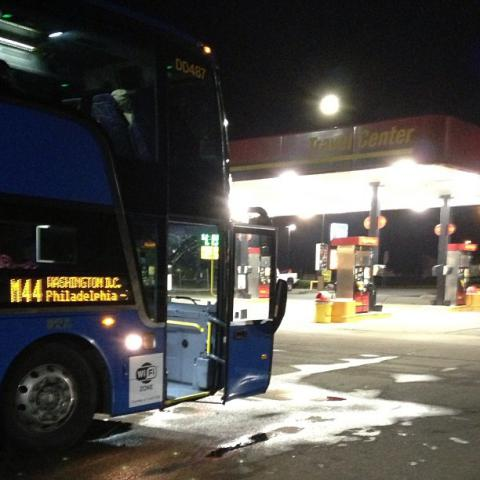bus: (1, 0, 284, 470)
car: (276, 269, 298, 292)
